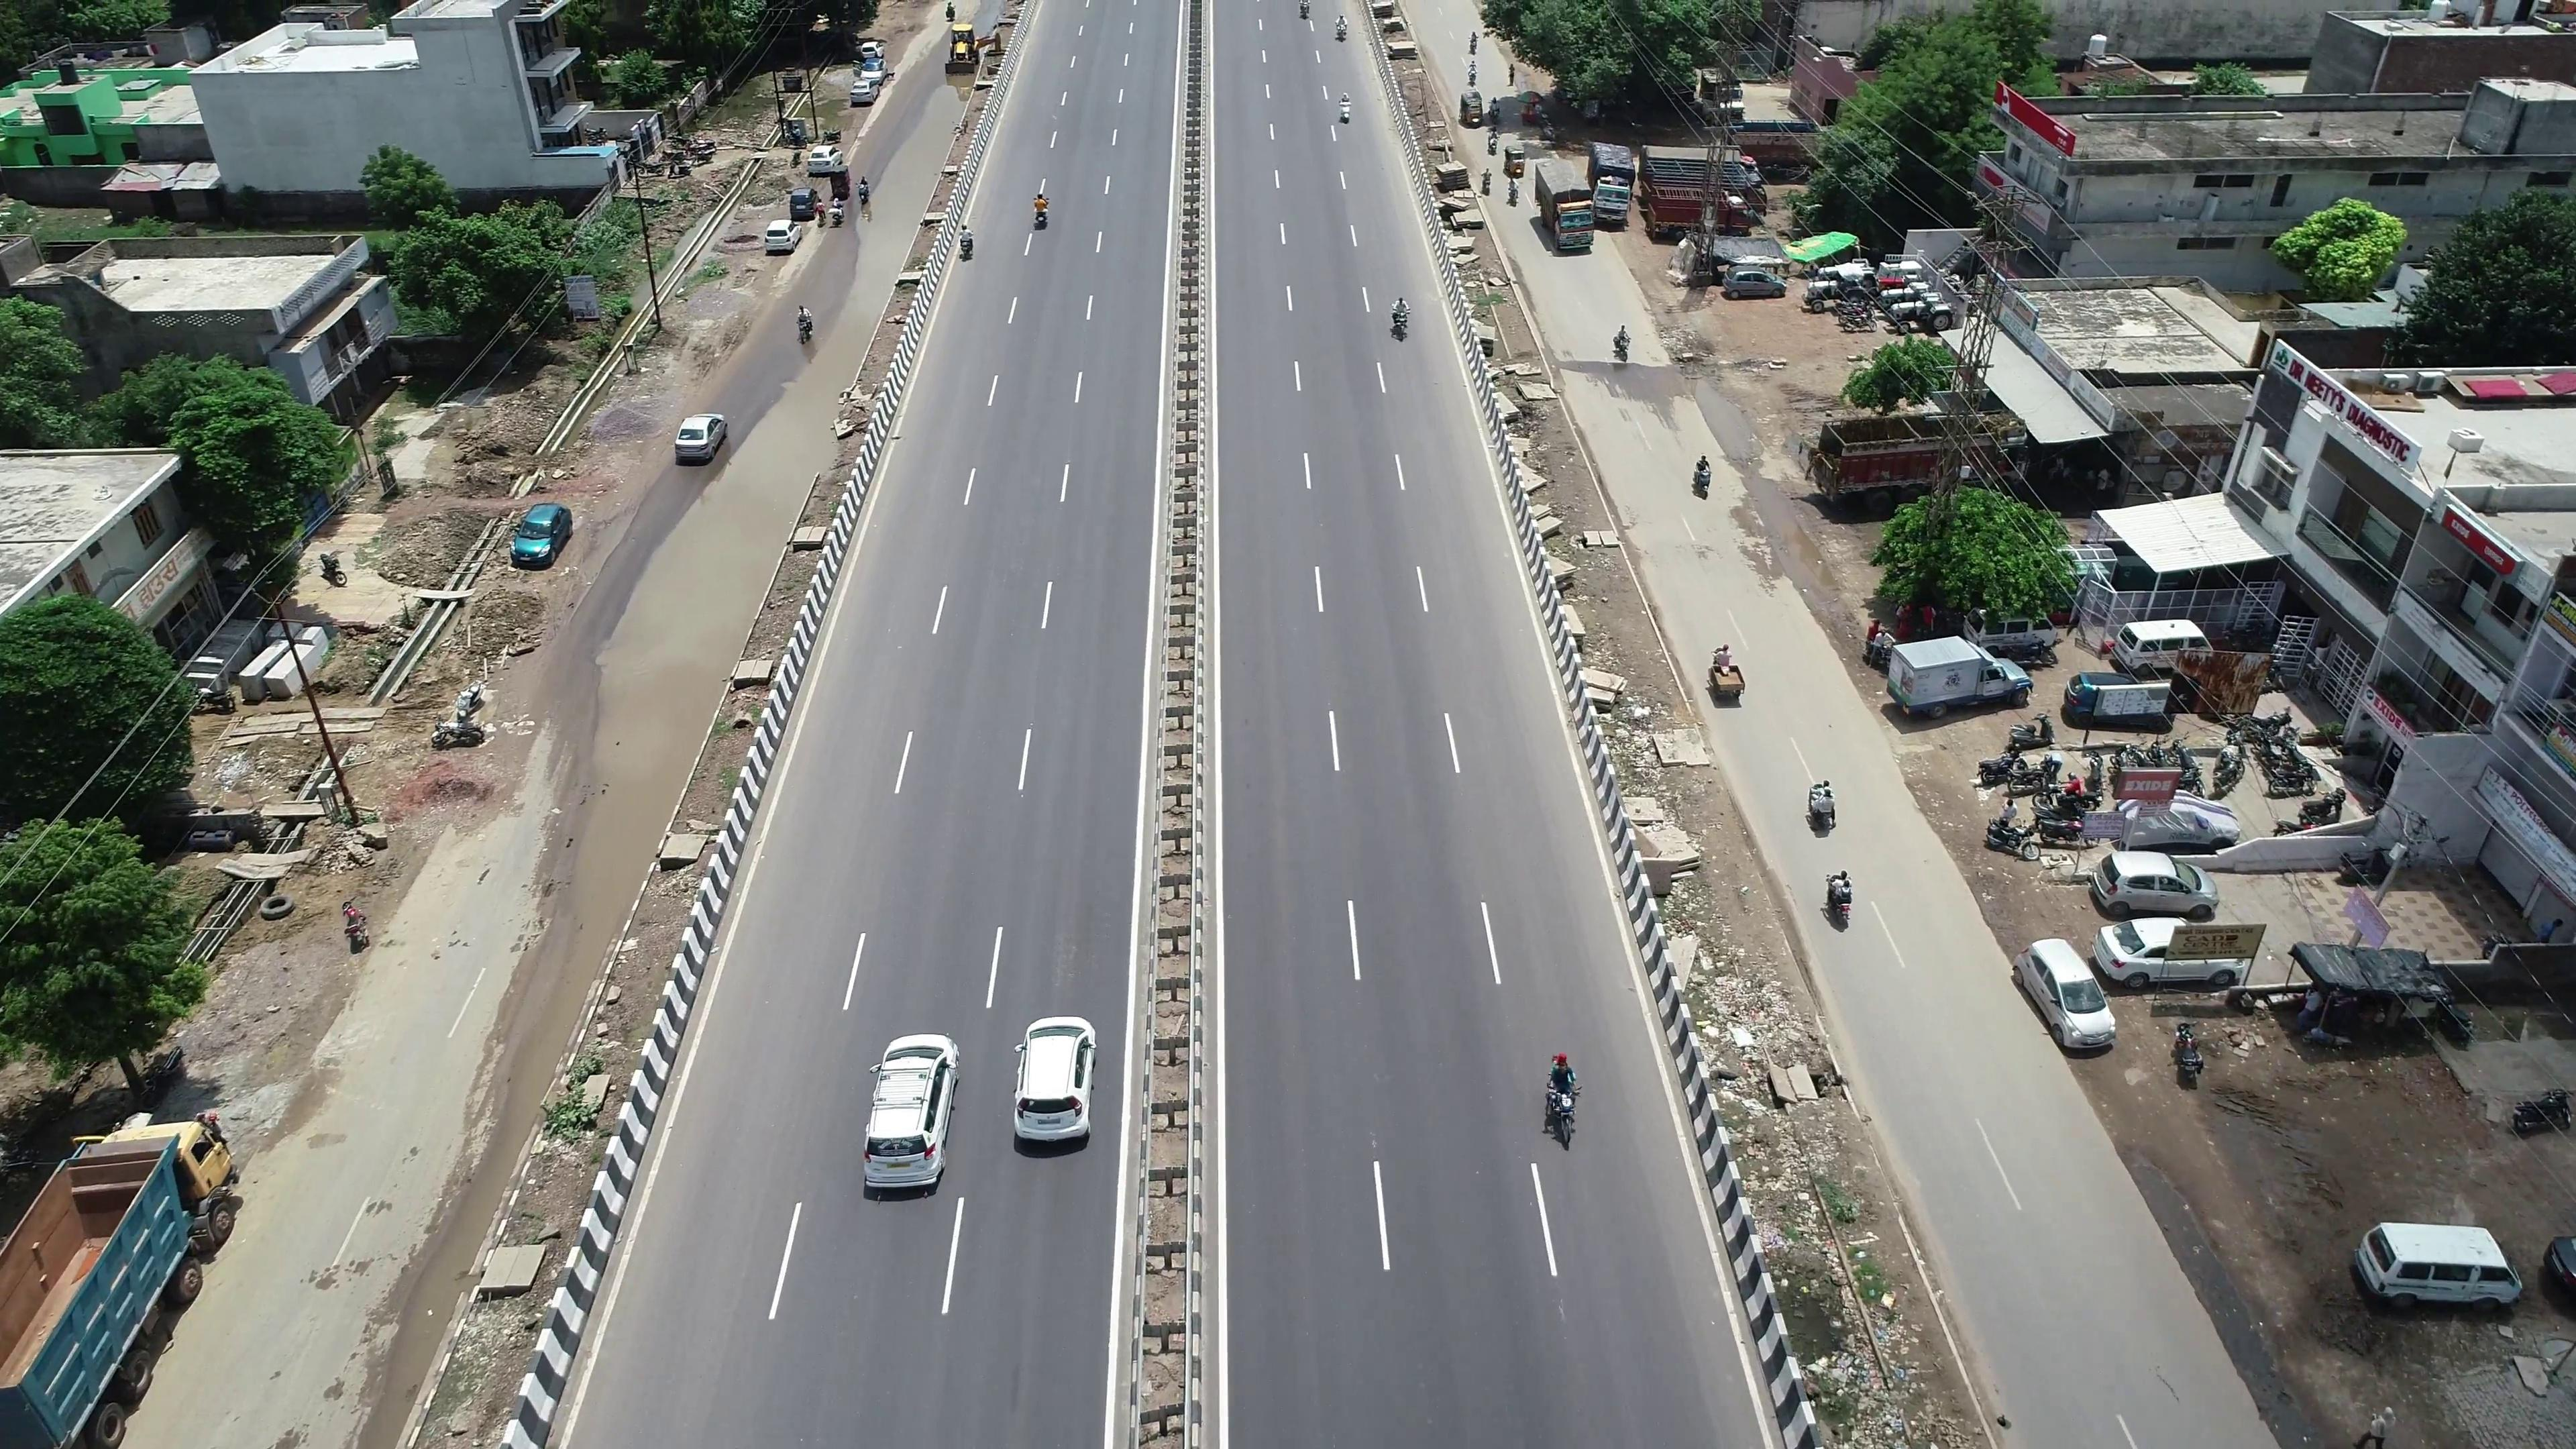Waterlogging: (591, 469, 757, 878)
